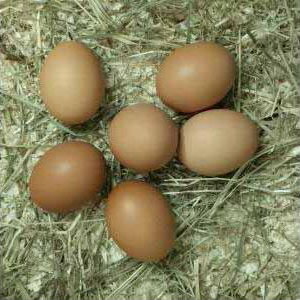egg: (107, 180, 178, 262), (156, 42, 237, 113), (30, 140, 107, 214), (178, 109, 259, 178), (39, 41, 105, 125), (107, 103, 179, 174)
